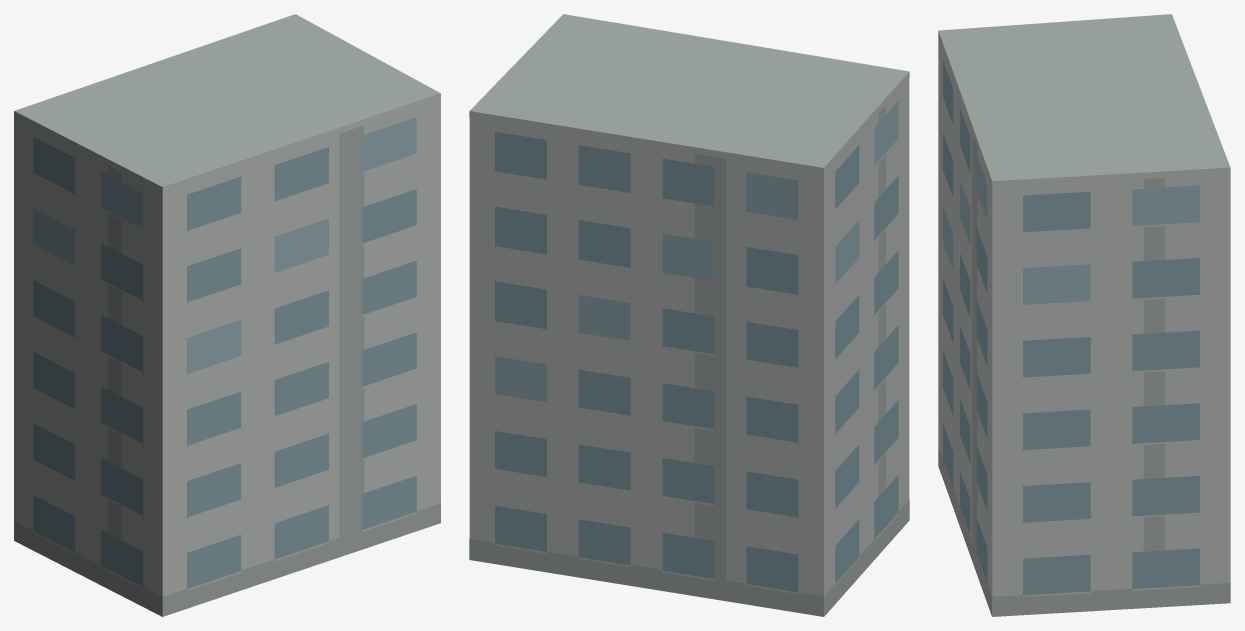
The model's file is survey-upis-32798290.glb.
3 views of the same model, side by side, from view 1: azimuth 30°, elevation 25°; view 2: azimuth 150°, elevation 25°; view 3: azimuth 270°, elevation 25° (orthographic). The views are drawn at different scales.
Parts seen in each view (by area): view 1: survey-upis-32798290.tmp; view 2: survey-upis-32798290.tmp; view 3: survey-upis-32798290.tmp.
Part boxes in pixels (x1,y1,x2,y2): survey-upis-32798290.tmp: (14, 14, 440, 616); survey-upis-32798290.tmp: (469, 14, 909, 616); survey-upis-32798290.tmp: (938, 14, 1230, 616).
Bounding box in the file's own units: 13.76 × 16.7 × 10.16.
